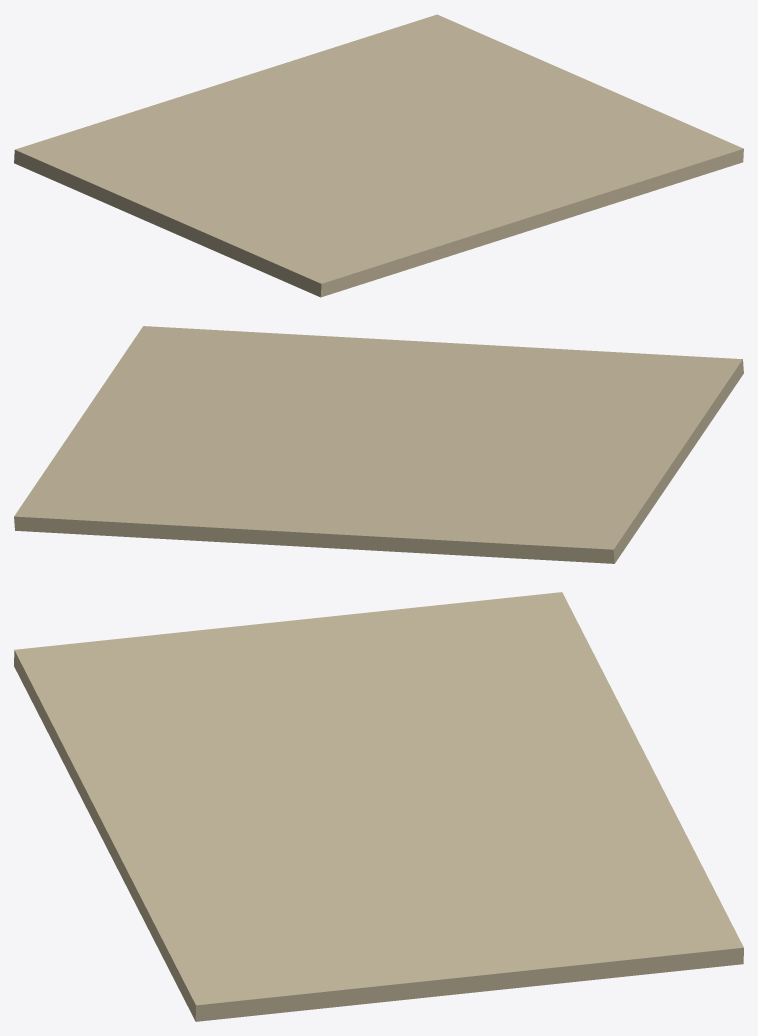
Rendered from photo.glb.
3 views of the same model, one above another, from view 1: azimuth 30°, elevation 25°; view 2: azimuth 150°, elevation 25°; view 3: azimuth 270°, elevation 25° (orthographic). The views are drawn at different scales.
Visible parts, largest first — view 1: photo; view 2: photo; view 3: photo.
Part boxes in pixels (x1,y1,x2,y2): photo: (14, 14, 743, 297); photo: (14, 326, 743, 563); photo: (14, 592, 743, 1021).
Size of the model in its own units: 0.1381 by 0.0114 by 0.1163.
